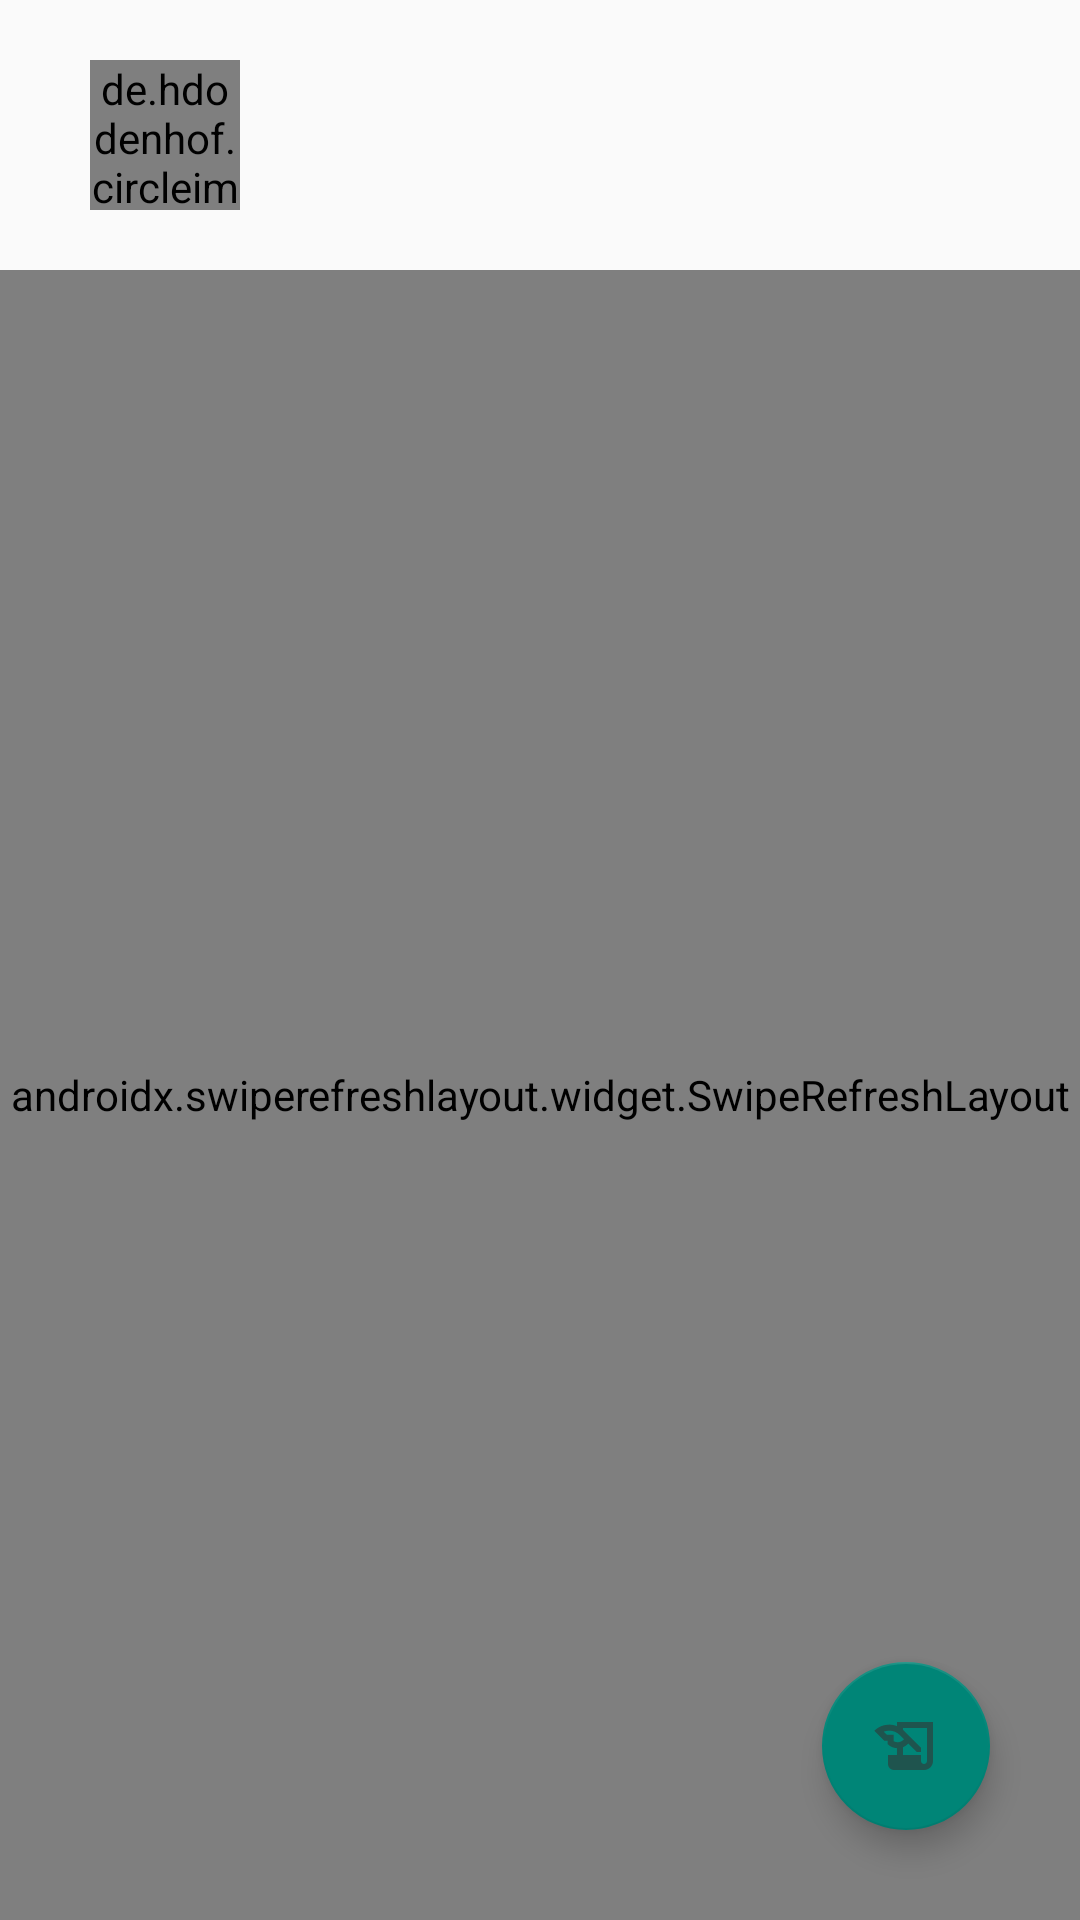

Named icons in this screenshot (1080x1920) and their centers, point (x, y):
Generate: point (906, 1746)
